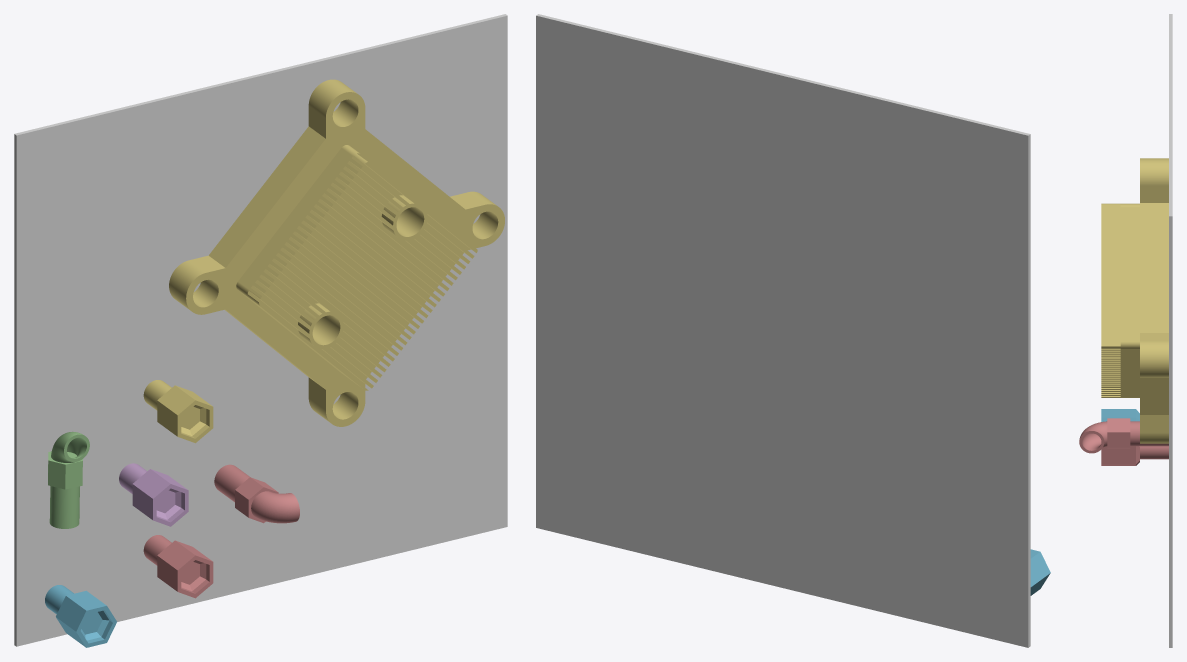
The model's file is pickup_layout.glb.
3 views of the same model, side by side, from view 1: azimuth 30°, elevation 25°; view 2: azimuth 150°, elevation 25°; view 3: azimuth 270°, elevation 25° (orthographic). The views are drawn at different scales.
Parts seen in each view (by area): view 1: world, 1.obj, 4.obj, 0.obj, 2.obj, 6.obj, 5.obj, 3.obj; view 2: world; view 3: 1.obj, world, 0.obj, 5.obj, 2.obj.
Part boxes in pixels (<box>): world: <box>14,14,507,646</box>; 1.obj: <box>169,79,504,426</box>; 4.obj: <box>48,431,89,528</box>; 0.obj: <box>214,464,299,523</box>; 2.obj: <box>45,585,116,647</box>; 6.obj: <box>143,380,213,443</box>; 5.obj: <box>143,535,213,598</box>; 3.obj: <box>119,463,188,526</box>; world: <box>536,14,1030,647</box>; 1.obj: <box>1101,158,1168,443</box>; world: <box>1169,14,1172,647</box>; 0.obj: <box>1079,418,1168,453</box>; 5.obj: <box>1101,446,1168,465</box>; 2.obj: <box>1101,409,1139,421</box>.
Bounding box in the file's own units: 24.86 × 24.72 × 4.85.
